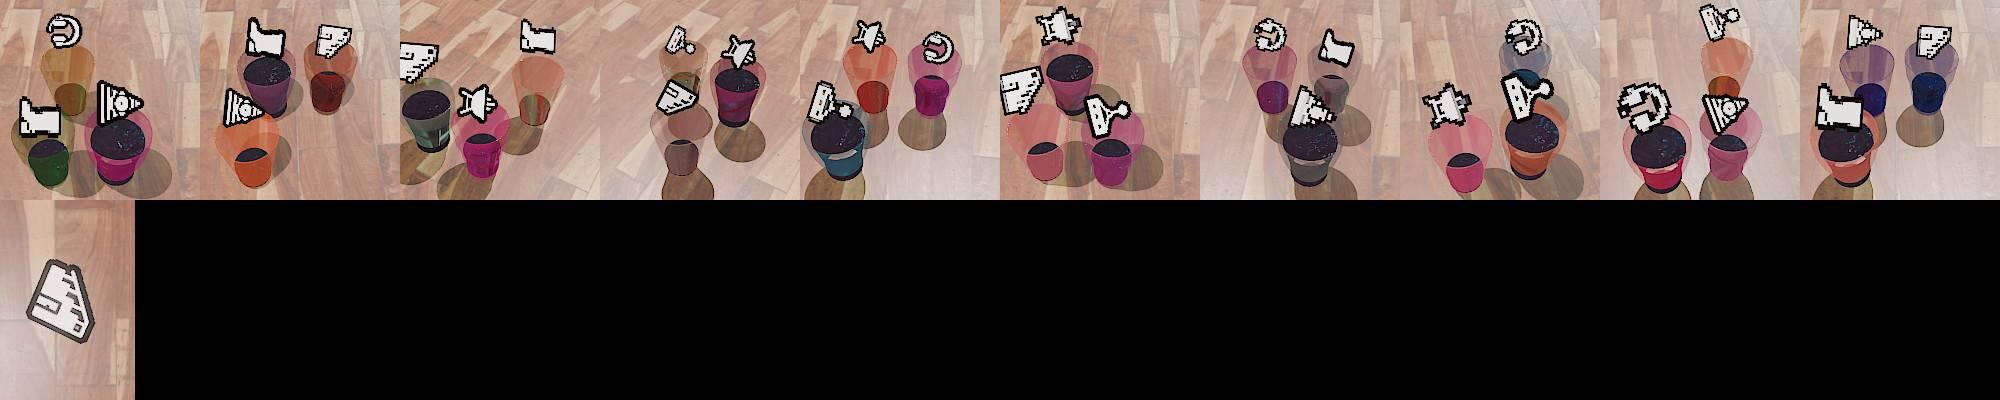icon: (21, 250, 108, 347), (1615, 81, 1672, 132), (1501, 71, 1552, 123), (1815, 81, 1867, 130), (1423, 81, 1473, 130), (1081, 91, 1132, 139), (96, 79, 144, 127), (999, 65, 1043, 116), (1288, 83, 1335, 129), (1701, 90, 1748, 136), (19, 95, 63, 138), (1036, 5, 1081, 47), (244, 17, 287, 59), (655, 76, 700, 116), (398, 41, 438, 86), (222, 87, 266, 127), (1317, 26, 1357, 69), (1698, 3, 1740, 43), (457, 83, 497, 122), (1504, 17, 1543, 56), (719, 33, 758, 71), (806, 79, 837, 125), (1846, 14, 1883, 52), (519, 19, 557, 56), (1916, 25, 1955, 60), (46, 13, 82, 50), (315, 23, 351, 59), (851, 18, 887, 54), (1253, 17, 1288, 53), (921, 31, 955, 64), (664, 25, 698, 56)
